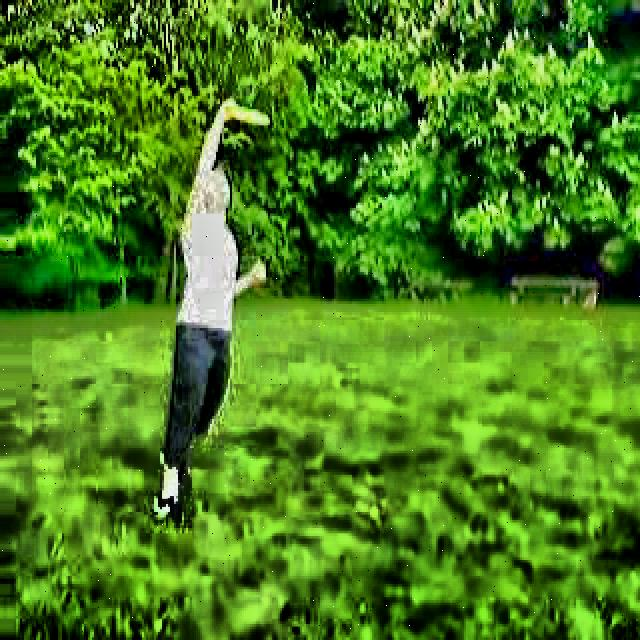T: (146, 79, 270, 540)
